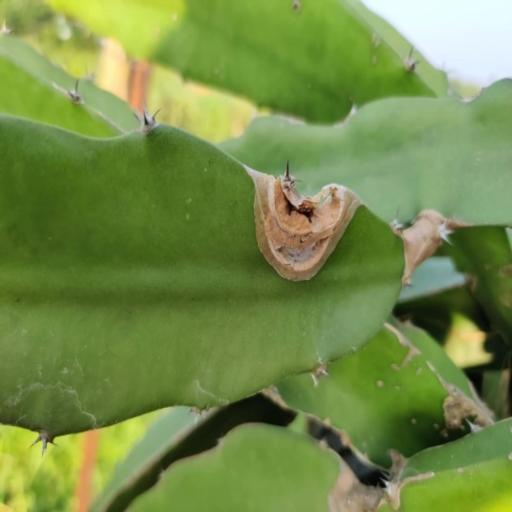stemcanker: (150, 170, 224, 270), (358, 353, 412, 415), (400, 403, 461, 449), (314, 397, 364, 452)
